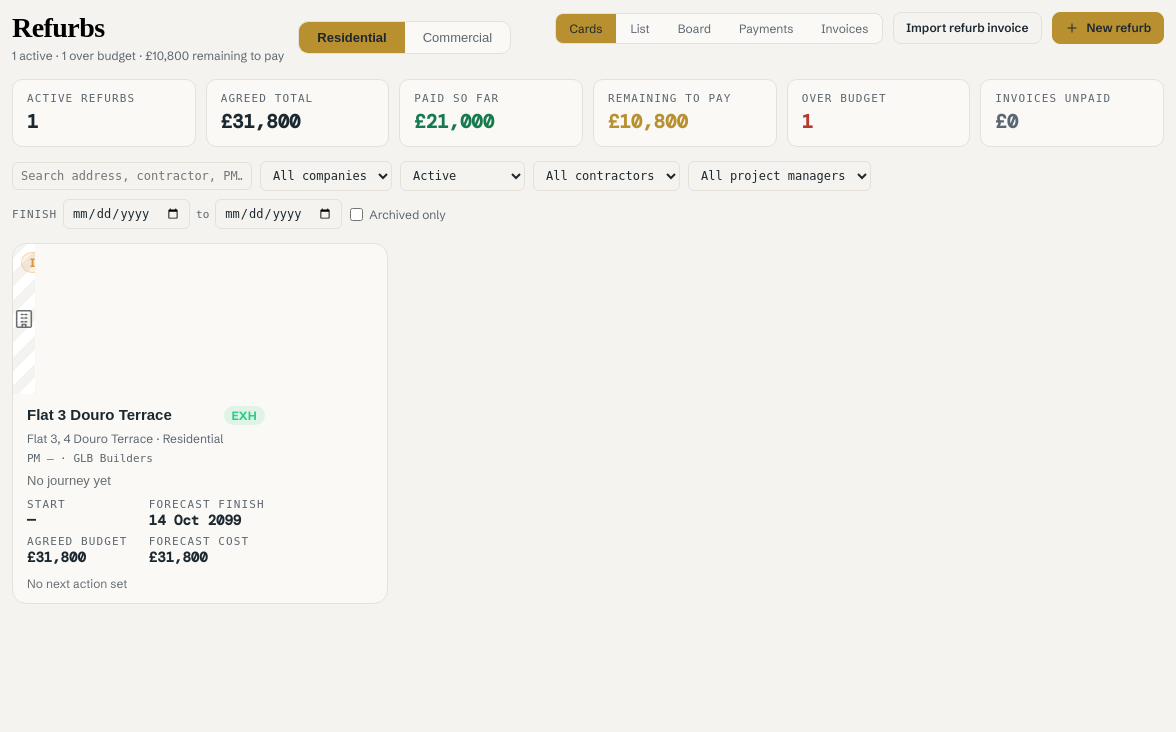
Test: RefurbsPage › splits Residential and Commercial projects
This screenshot has width=1176, height=732.
Expected: the text "Flat 3 Douro Terrace" is shown, [27,406,172,423]
Step 1. Click the tab "Commercial" → (457, 38), box [405,22,510,53]
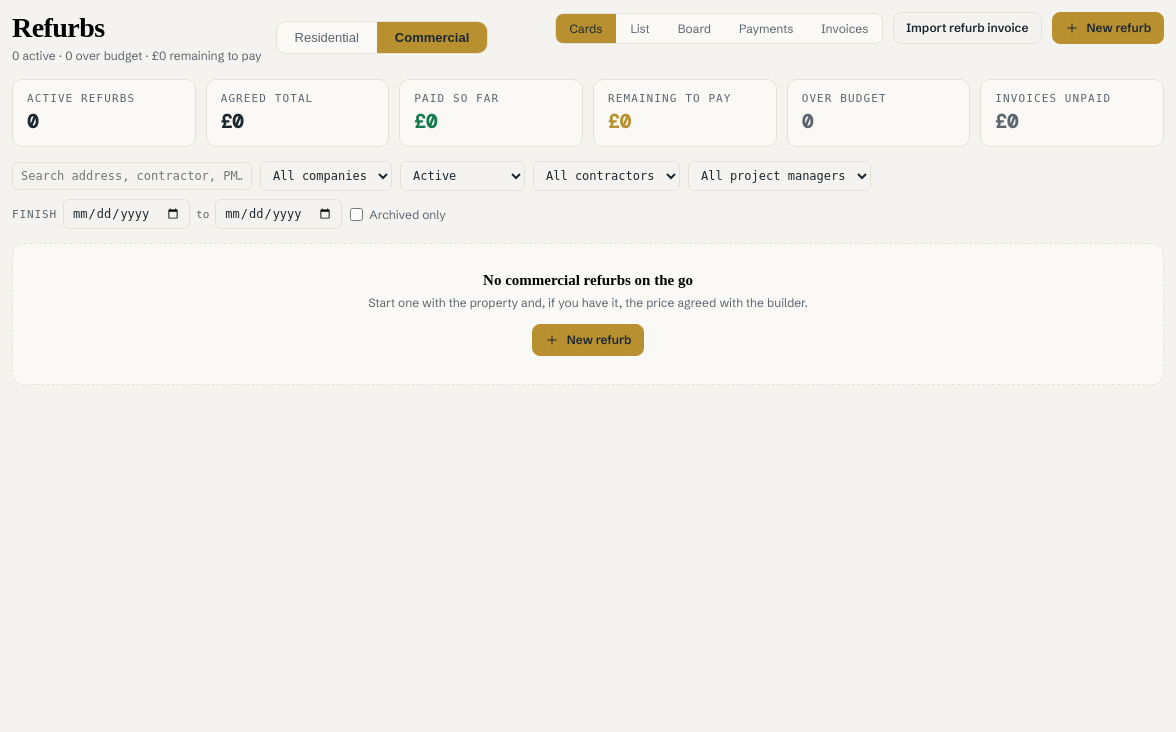
Now the button "Flat 3 Douro Terrace" is gone
Now the text "No commercial refurbs on the go" is shown, box [483,272,693,288]
